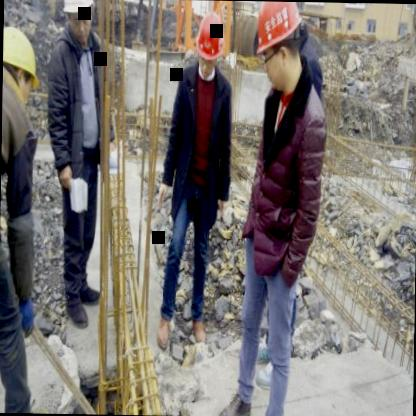helmet: (255, 0, 306, 90), (2, 25, 39, 110), (197, 8, 226, 81), (59, 0, 95, 42)
